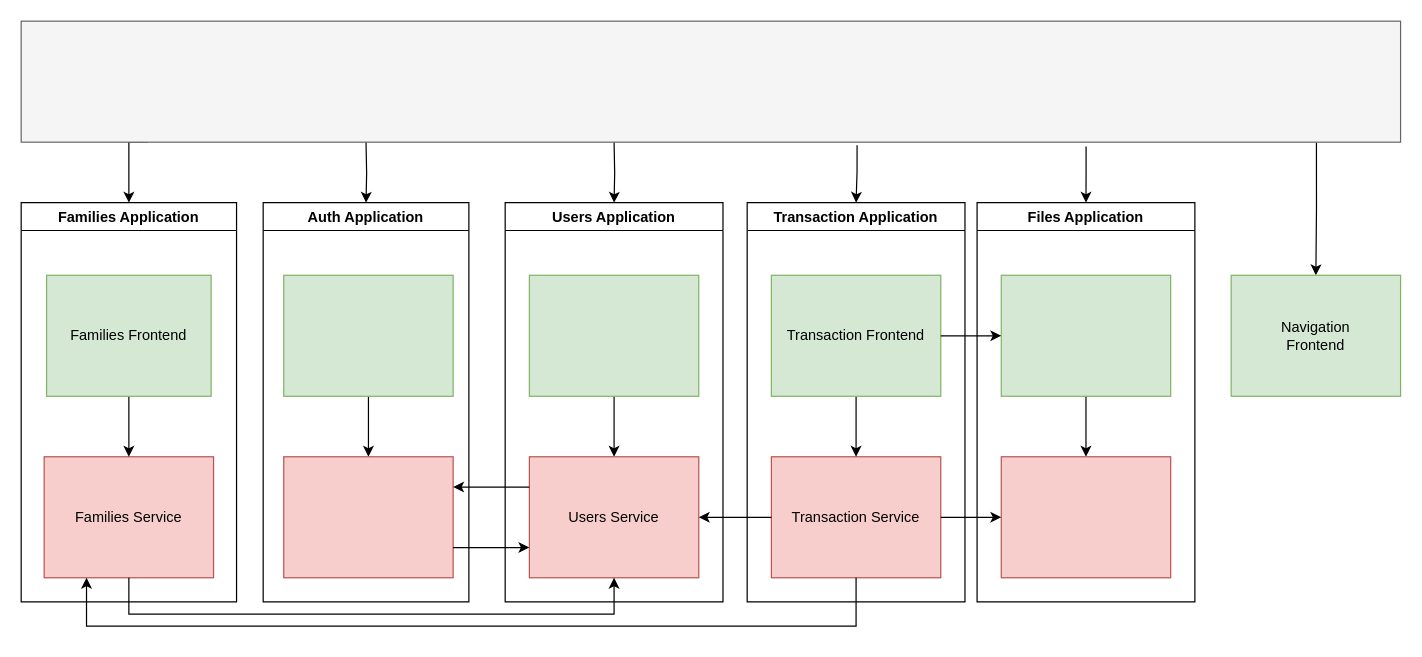
Image size: 1422x657. Some labels were removed from this diagram. The centre of each missing label's shape, as x and y in pixels:
Auth Frontend: (368,335)
Auth Service: (368,517)
Container Frontend App: (710,81)
Files Frontend: (1085,335)
Files Service: (1085,517)
Users Frontend: (613,335)
